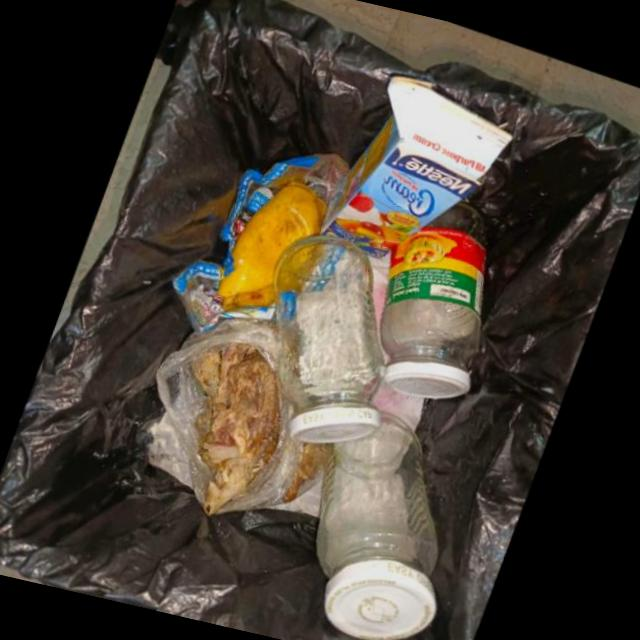chai_thuy_tinh: (316, 411, 438, 640), (272, 233, 386, 444), (379, 201, 487, 400)
thuc_an_thua: (193, 347, 281, 513)
vo_hop_sua: (320, 76, 513, 259)
vo_trai_cay: (218, 182, 328, 311)
